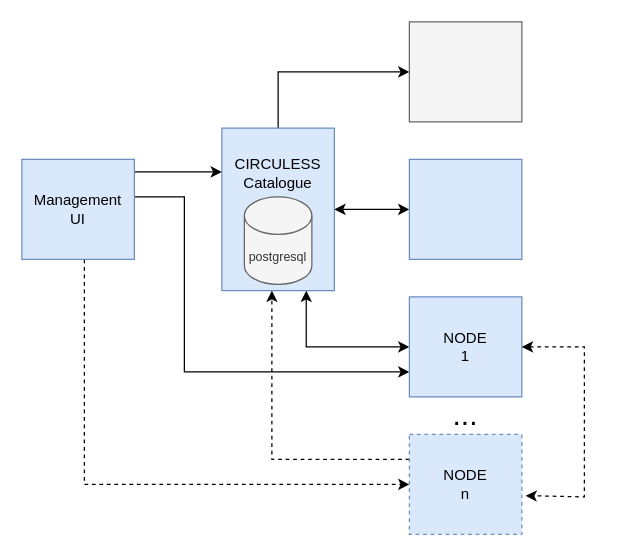
The diagram is 618 pixels wide and 556 high, and some of its shapes have lost their labels. Here are the shapes that lost their labels. From the top down, the centre of each, then its label:
At point 465,71: "KEYCLOAK".
At point 465,208: "PKI (openssl)".
